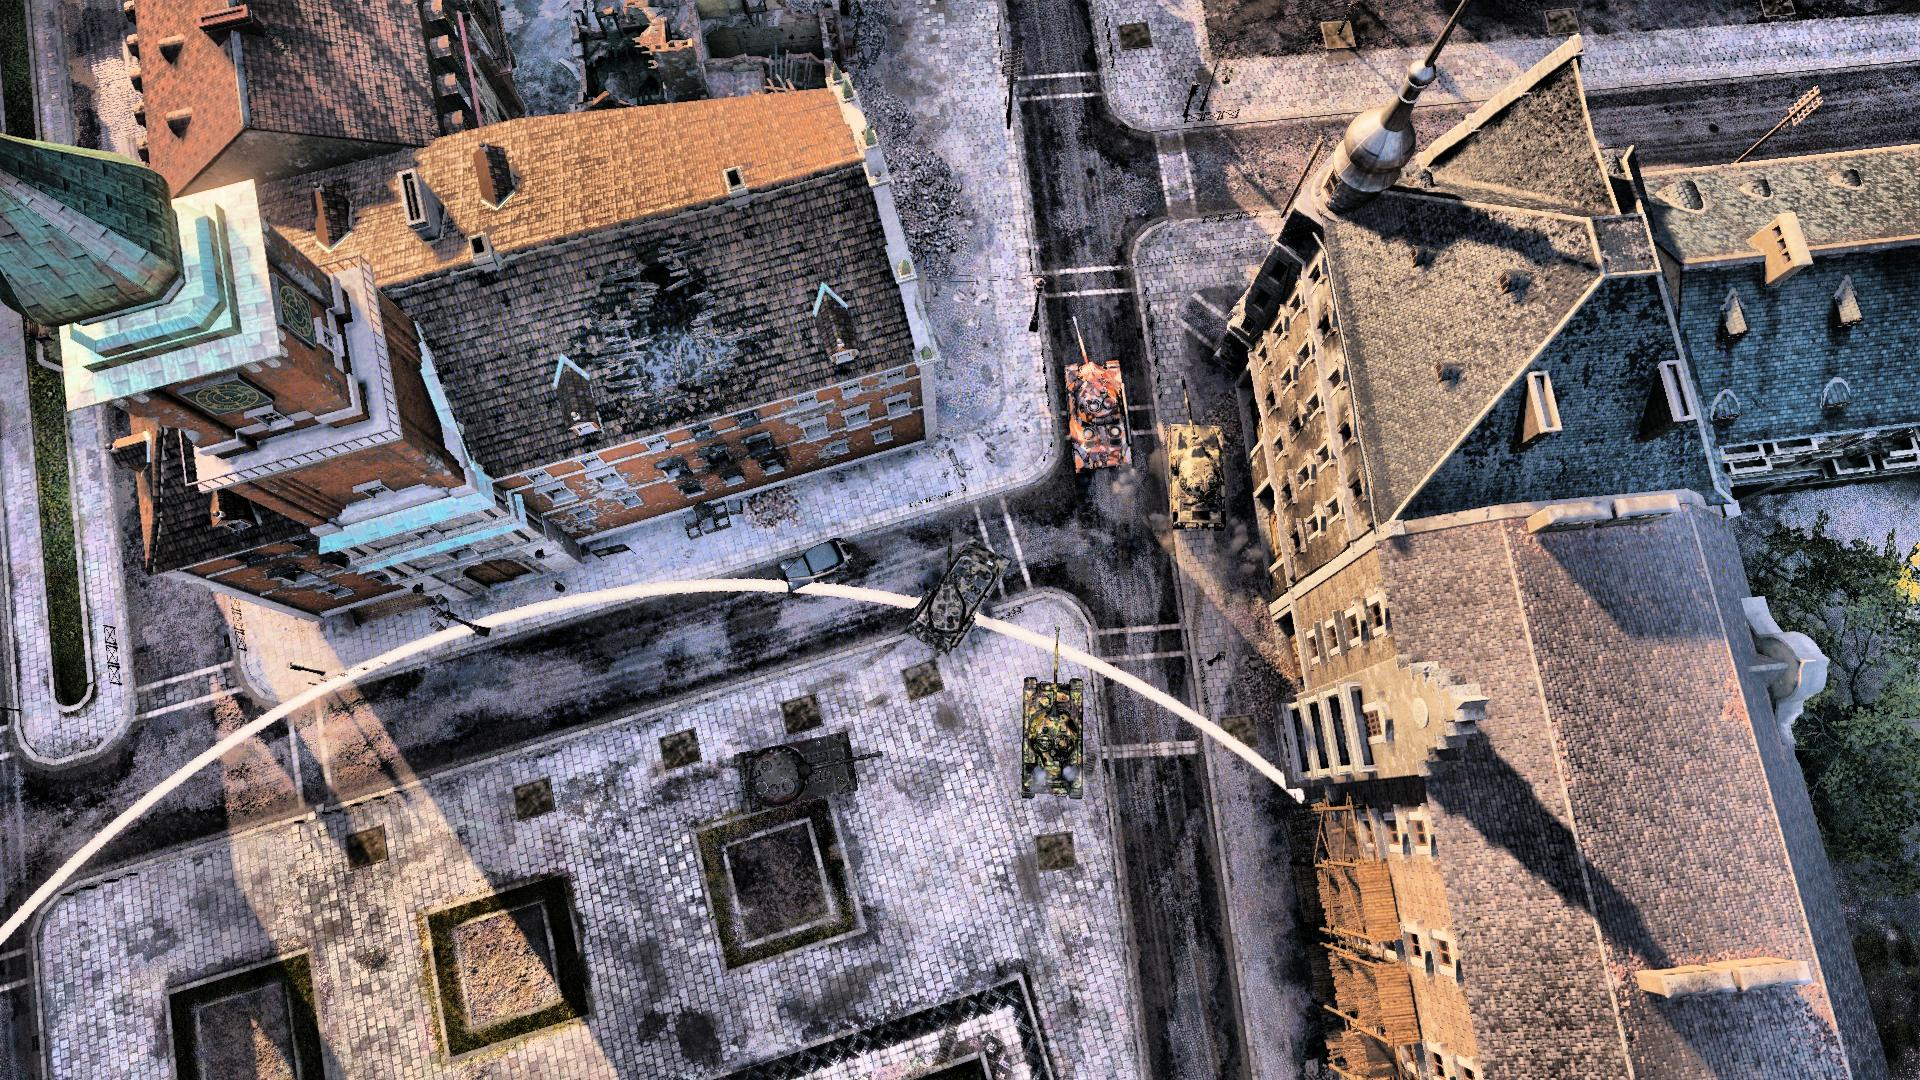military-vehicle: (731, 727, 885, 816), (906, 527, 1010, 657), (1060, 313, 1137, 472), (1019, 625, 1085, 800), (1167, 376, 1229, 531)
